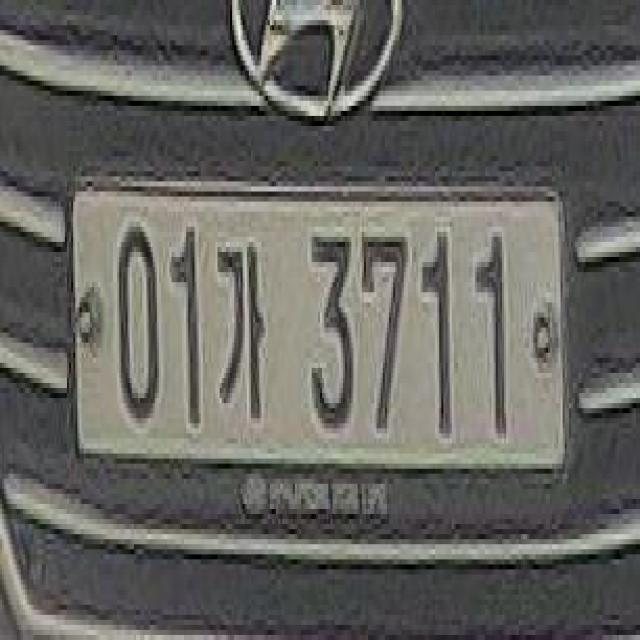illegal_plate: (75, 156, 571, 520)
